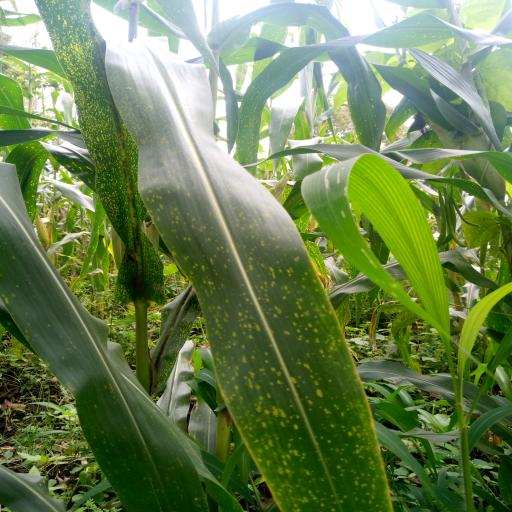Corn_Brown_Spots: (129, 97, 423, 512), (36, 1, 164, 311)
